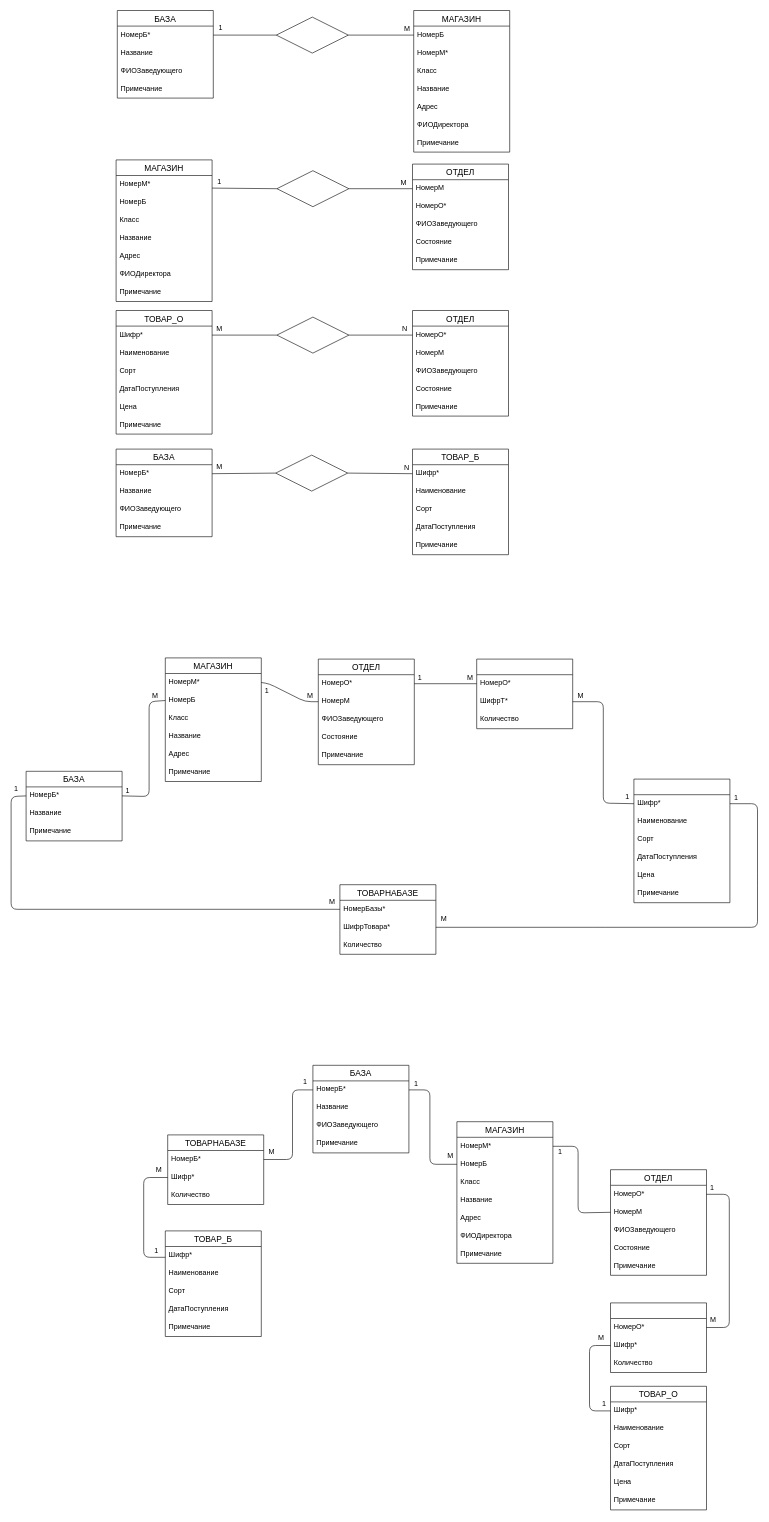
Some shapes in this 769 by 1522 pixel diagram are drawn without their labels. Each missing label, with the box of its shape:
Доставляет в: (276, 16, 348, 53)
имеет: (276, 170, 349, 207)
Продается: (276, 316, 349, 353)
ТОВАР: (633, 778, 730, 903)
ТОВАРВНАЛИЧИИ: (476, 658, 573, 729)
ТОВАРВОТДЕЛЕ: (610, 1302, 706, 1372)
Хранит: (275, 454, 348, 491)
